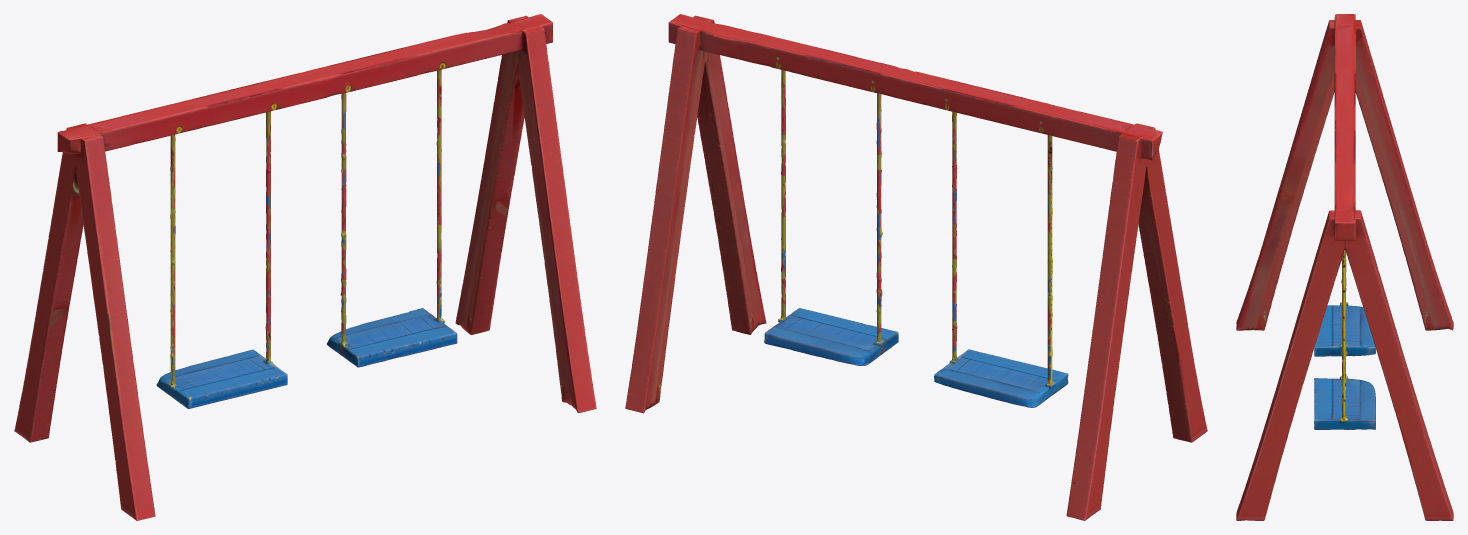
The model's file is Playful_Swingset_1009014015_texture.fbx.
3 views of the same model, side by side, from view 1: azimuth 30°, elevation 25°; view 2: azimuth 150°, elevation 25°; view 3: azimuth 270°, elevation 25° (orthographic). The views are drawn at different scales.
Visible parts, largest first — view 1: input; view 2: input; view 3: input.
Part boxes in pixels (bbox=[...]): input: bbox=[14, 14, 596, 520]; input: bbox=[625, 14, 1207, 520]; input: bbox=[1236, 14, 1453, 520].
Bounding box in the file's own units: 190 × 129 × 83.61.
1 material, 1 textured.
